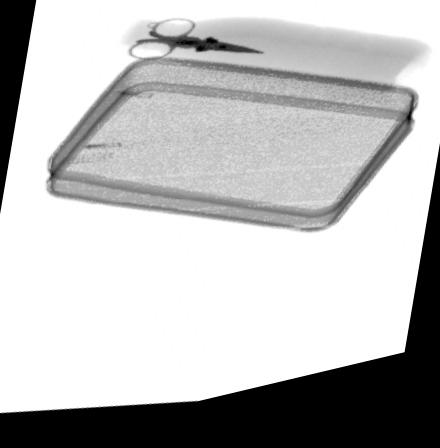Scissors: (124, 23, 266, 67)
